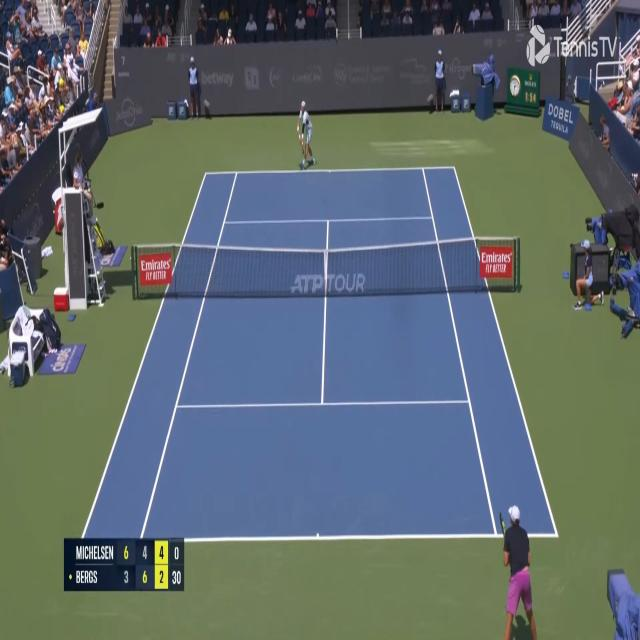tennis-player: (499, 501, 540, 639), (295, 99, 317, 171)
